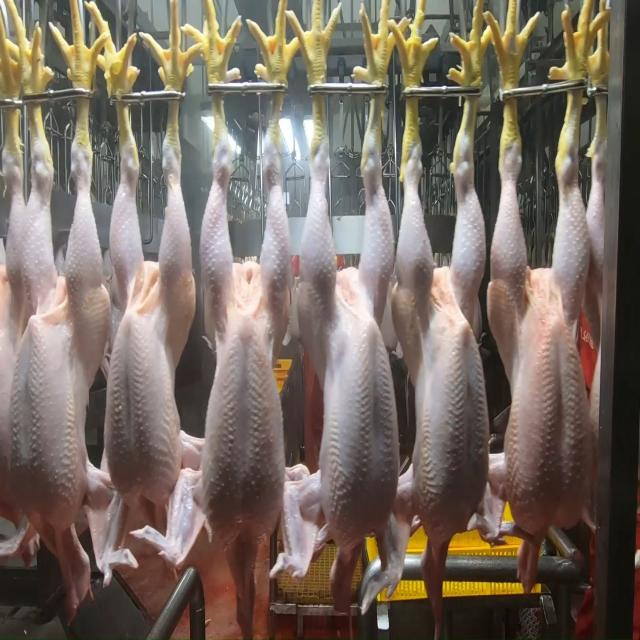chicken: (299, 130, 398, 564), (10, 135, 113, 534), (198, 131, 292, 546), (492, 155, 593, 537), (401, 136, 483, 566), (104, 124, 194, 506)
